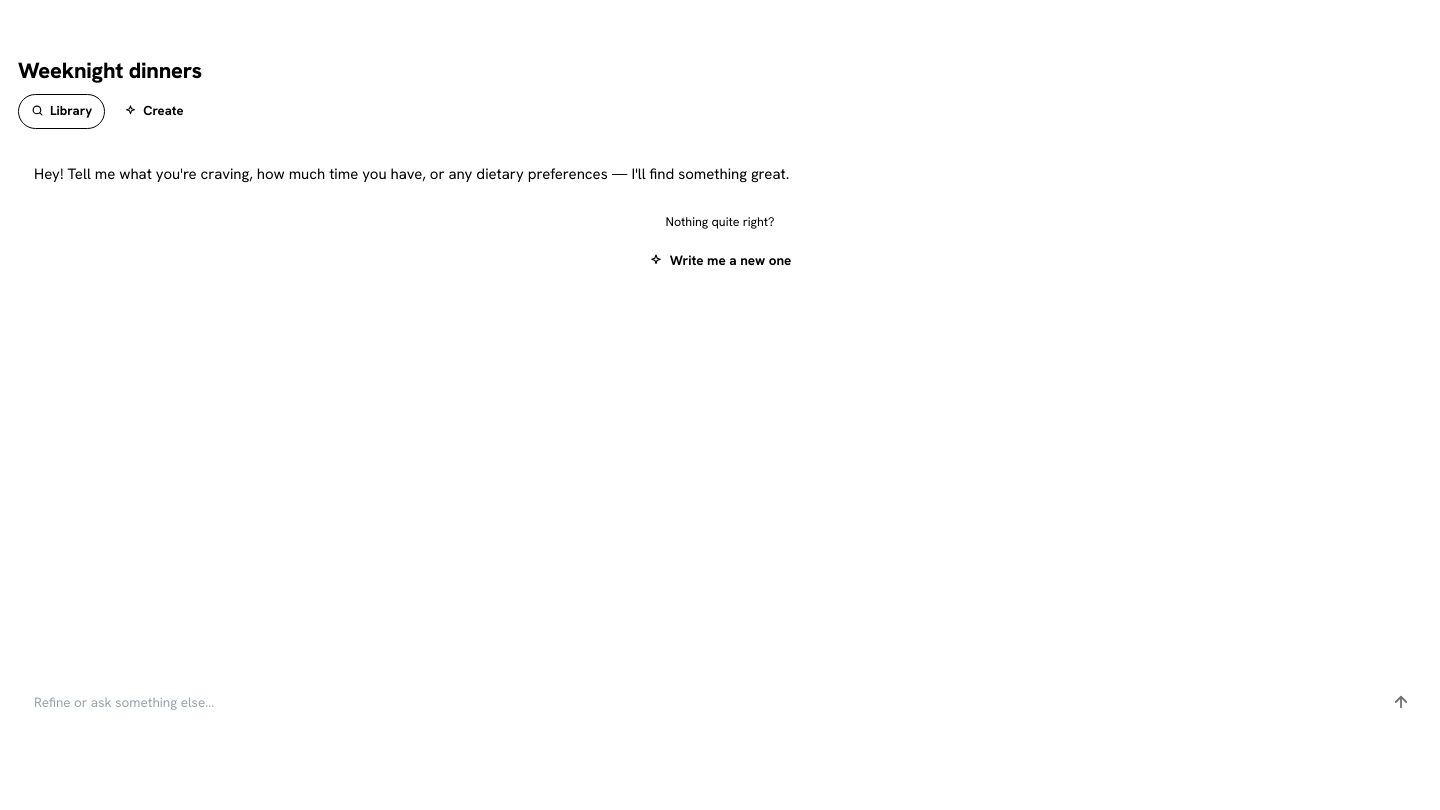
ChatPage — a single conversation › sending a message appends the user turn and an assistant reply
Expected: the text "Tell me what you're craving" is shown, [34,164,789,184]
In the field named "Message the assistant": (694, 702) [18,680,1371,724], type "Something warm and vegan"
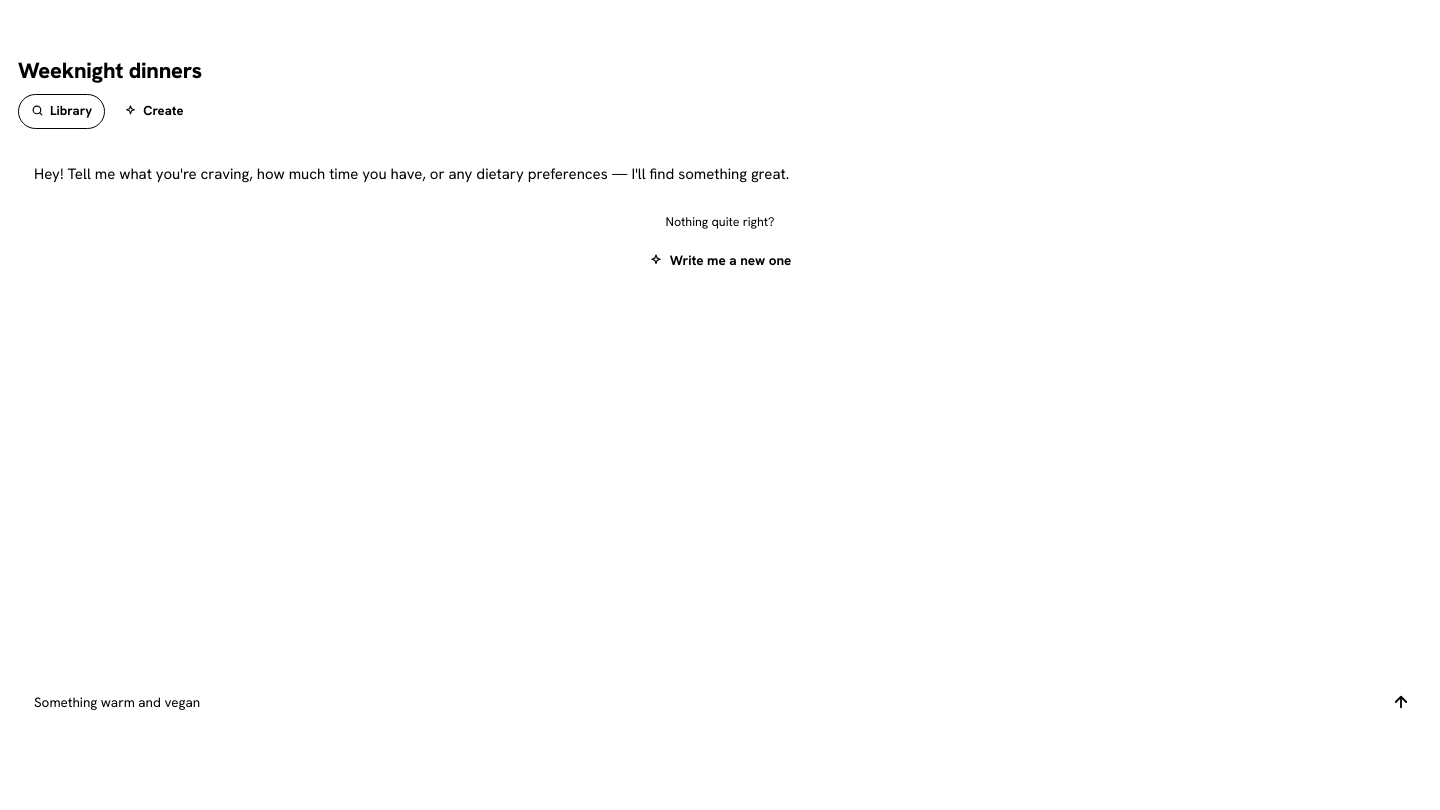
Click the button named "Send message": (1401, 702) [1380,681,1422,723]
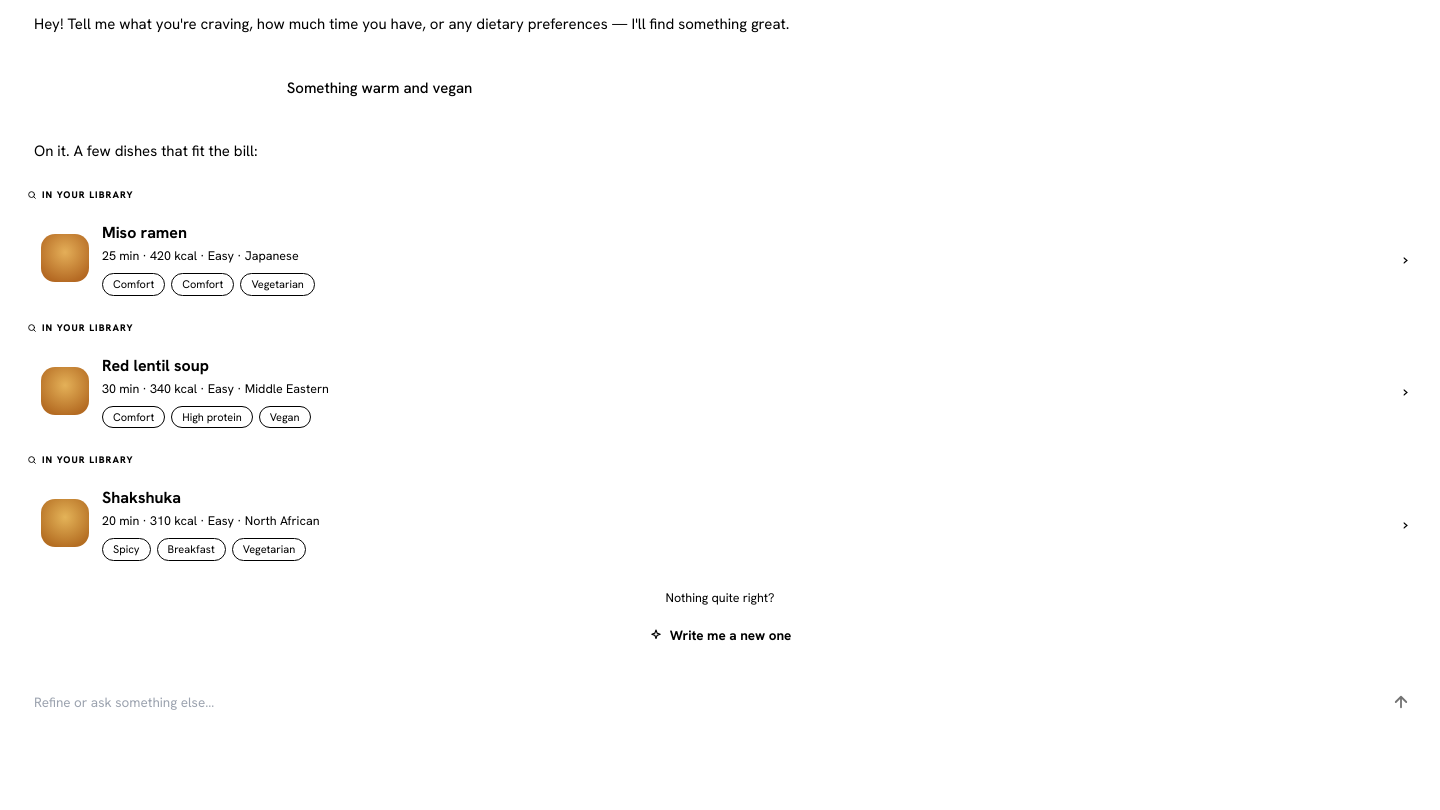
Result: the text "On it. A few dishes that fit the bill:" is shown at [34,140,258,160]
Result: the text "Something warm and vegan" is shown at [287,78,472,98]
